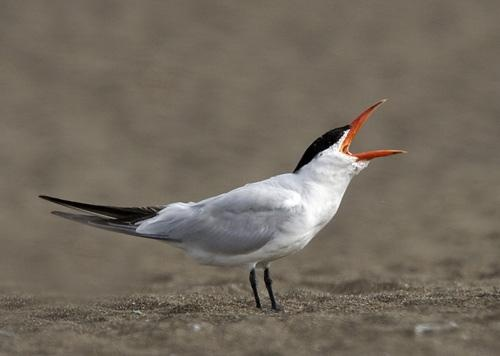bird: (27, 97, 407, 317)
